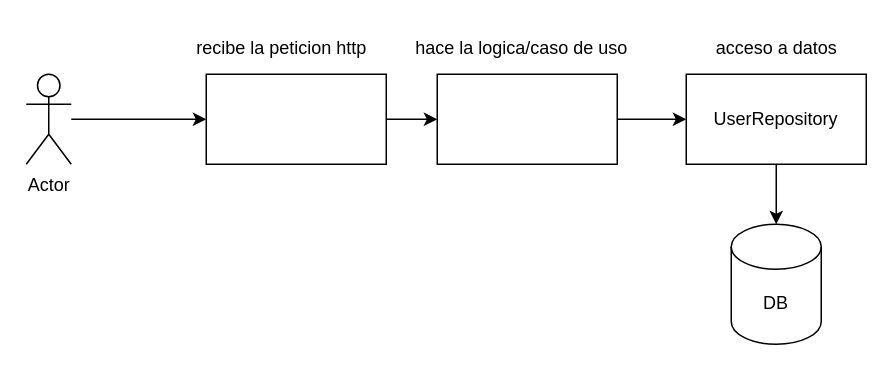
The diagram is 893 pixels wide and 371 high, and some of its shapes have lost their labels. The shapes that lost their labels are listed below. From the top down, each one's box as (x1, y1, x2, y2) in pixels, then its label:
(205, 73, 386, 164): UserController
(436, 73, 617, 164): UserService
